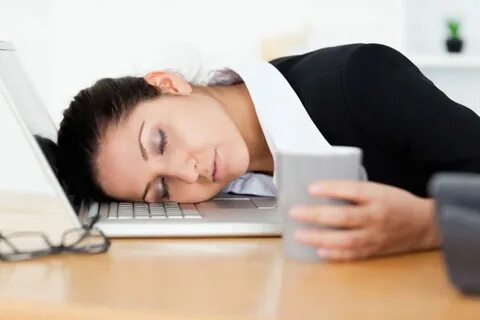sleep: (56, 41, 480, 254)
